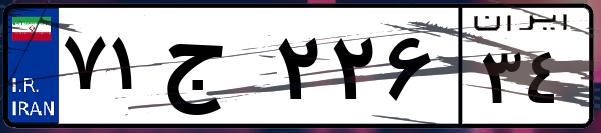1: (110, 28, 158, 98)
2: (270, 28, 330, 110), (330, 28, 385, 110)
3: (475, 38, 525, 113)
4: (525, 38, 570, 115)
6: (385, 28, 445, 110)
7: (57, 26, 110, 100)
ج: (158, 20, 270, 120)
